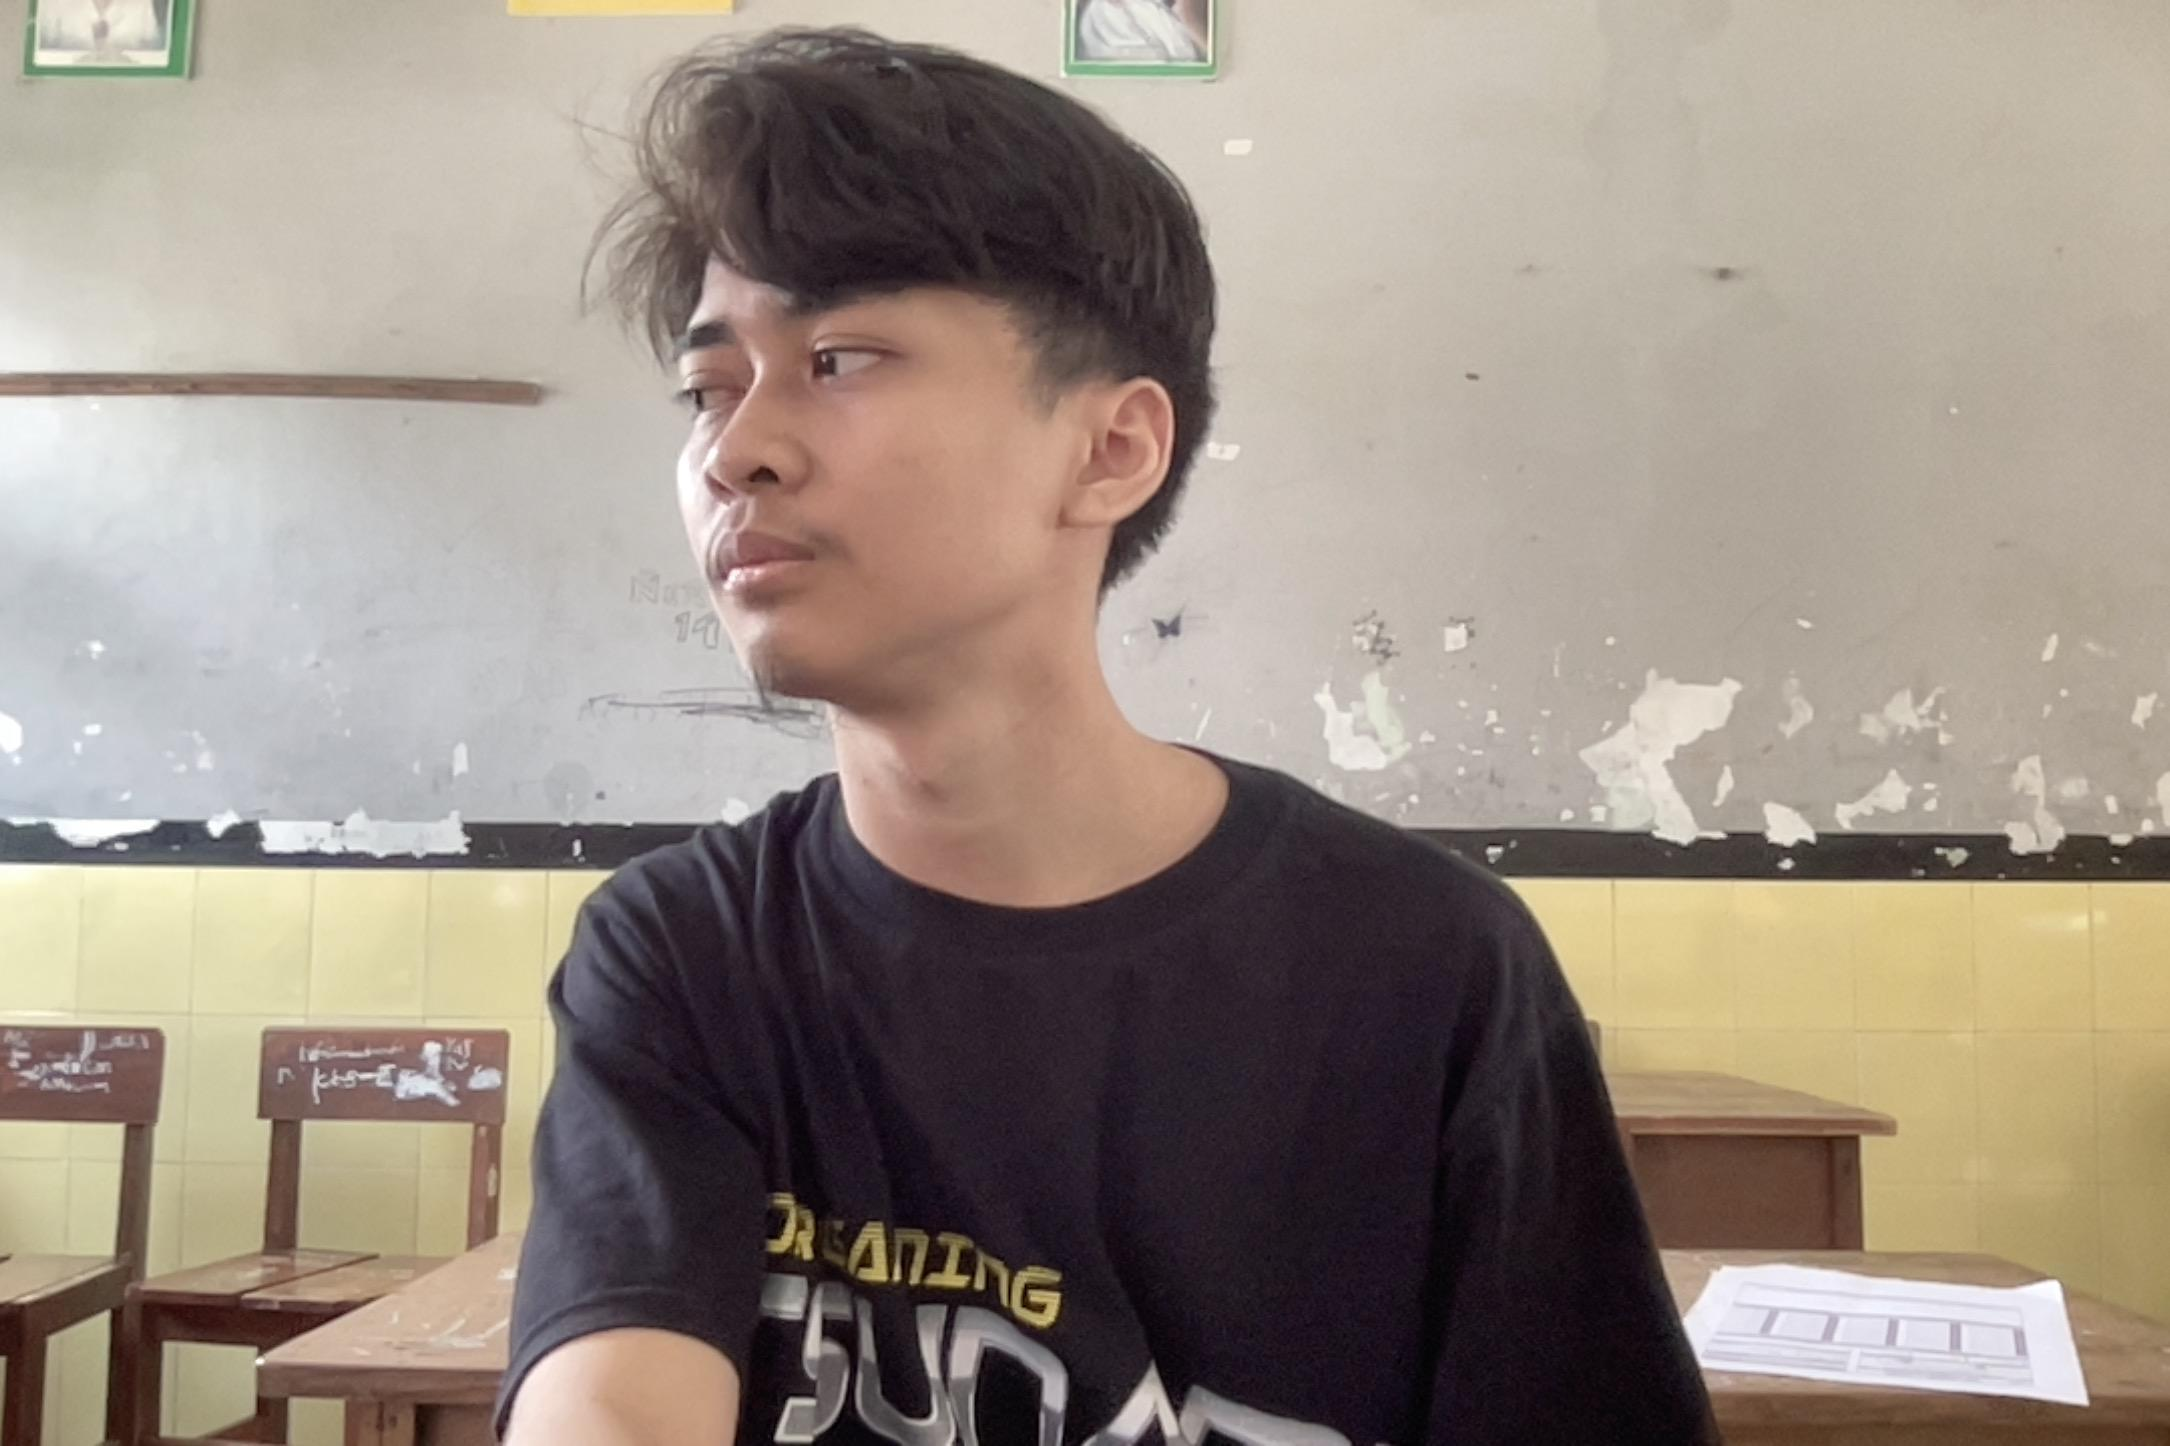cheating: (537, 11, 1738, 1446)
